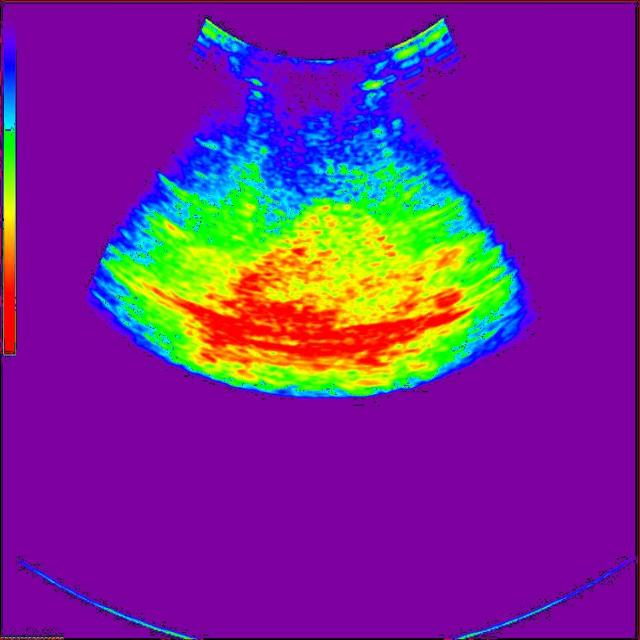lamb muscle pre: (223, 201, 425, 328)
